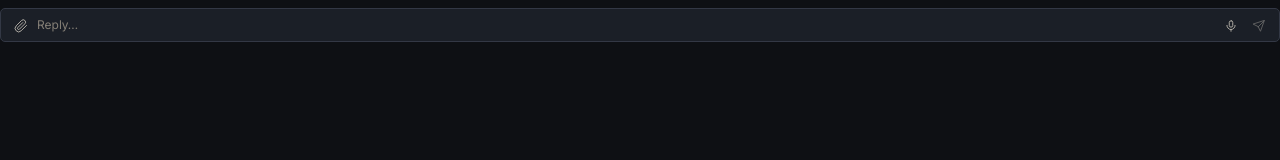
Test: the voice area › VOM-FR-NPLU, VOM-FR-TISN: the text field gives way to the voice area
This screenshot has width=1280, height=160.
Click the button with test id "voice-button": (1231, 26) [1219, 15, 1243, 37]
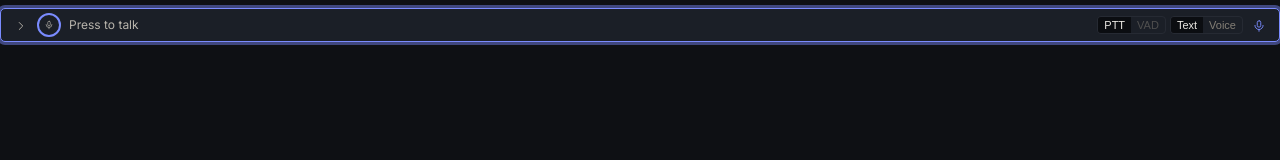
Expected: the element with test id "voice-area" is shown, [37, 13, 1243, 37]
Expected: the button with test id "voice-expand" is shown, [9, 15, 33, 37]
Expected: the text "Press to talk" is shown, [69, 17, 139, 32]
